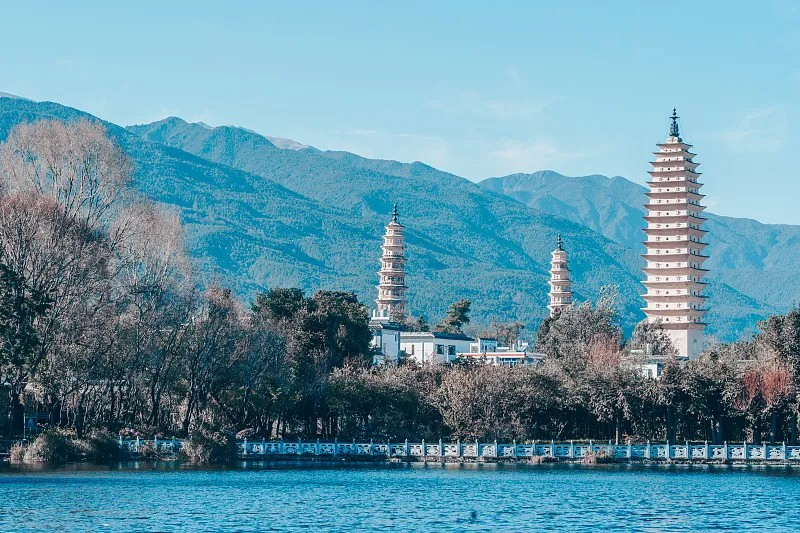ThreePagoda: (639, 107, 710, 359)
